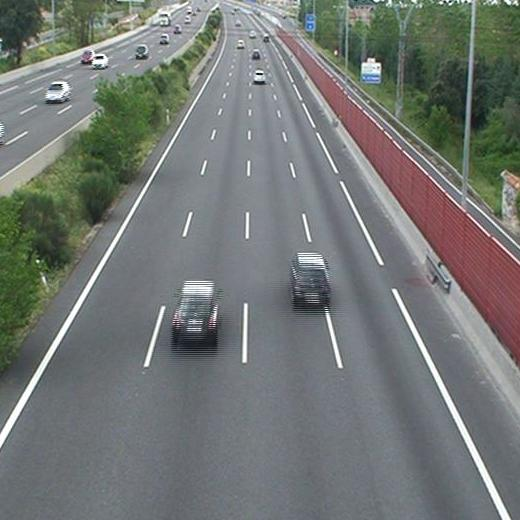car: (173, 282, 219, 341), (290, 254, 330, 304), (253, 70, 265, 83), (252, 49, 261, 60), (236, 40, 245, 50)
